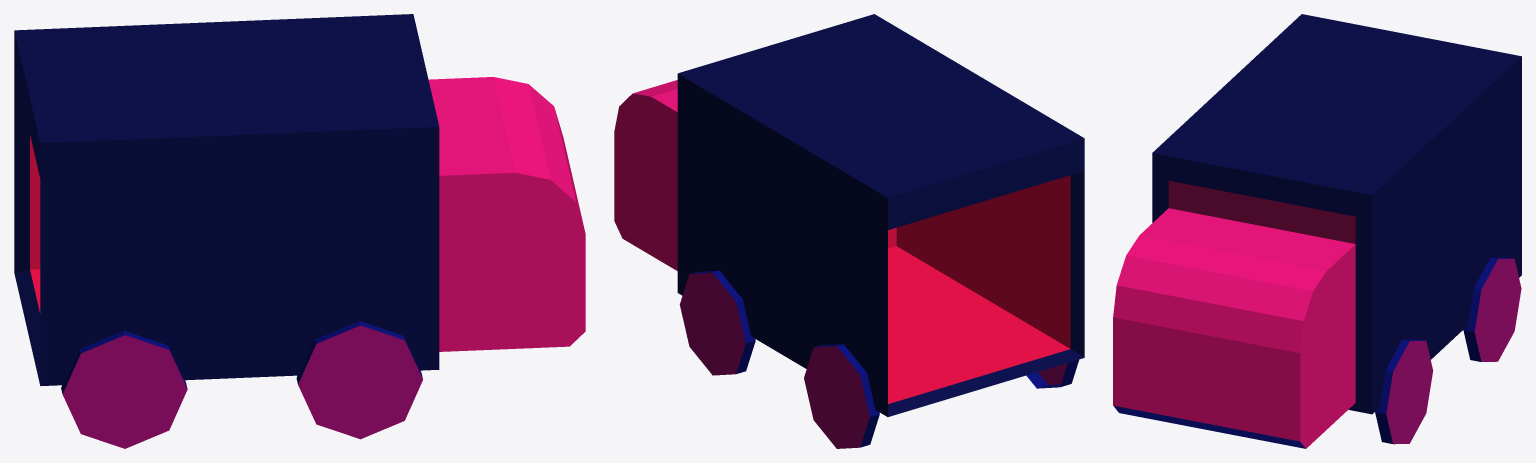
File: ToyTruck.fbx
The picture shows the model from 3 angles, left to right: view 1: azimuth 30°, elevation 25°; view 2: azimuth 150°, elevation 25°; view 3: azimuth 270°, elevation 25°; orthographic projection. The views are drawn at different scales.
Parts seen in each view (by area): view 1: Truck; view 2: Truck; view 3: Truck.
Boxes of the visible parts, x1=… form: Truck: x1=14, y1=14, x2=585, y2=448; Truck: x1=614, y1=14, x2=1084, y2=448; Truck: x1=1113, y1=14, x2=1521, y2=448.
Bounding box in the file's own units: 33.77 × 18.83 × 25.39.
